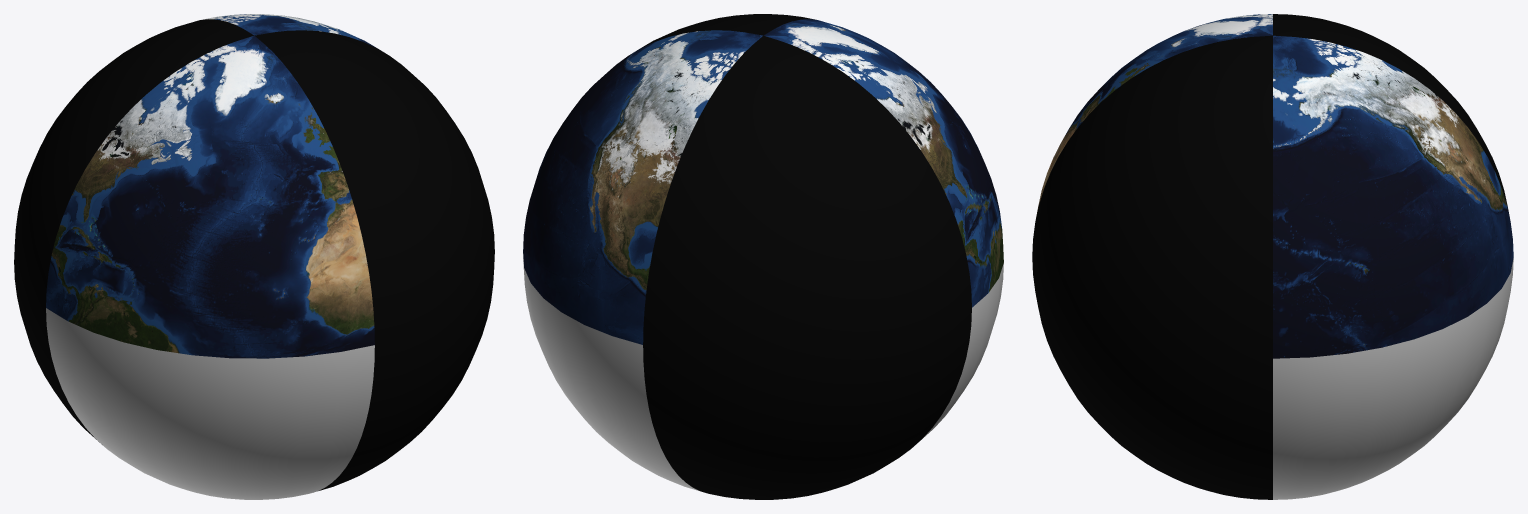
File: planetSphere.fbx
3 renders of one model, left to right at view 1: azimuth 30°, elevation 25°; view 2: azimuth 150°, elevation 25°; view 3: azimuth 270°, elevation 25°, orthographic.
Visible parts, largest first — view 1: earthSphere; view 2: earthSphere; view 3: earthSphere.
Boxes of the visible parts, x1,y1,x2,y2 form: earthSphere: [14, 14, 494, 499]; earthSphere: [523, 14, 1003, 499]; earthSphere: [1032, 14, 1513, 499].
Bounding box in the file's own units: 1.97 × 2 × 1.97.
